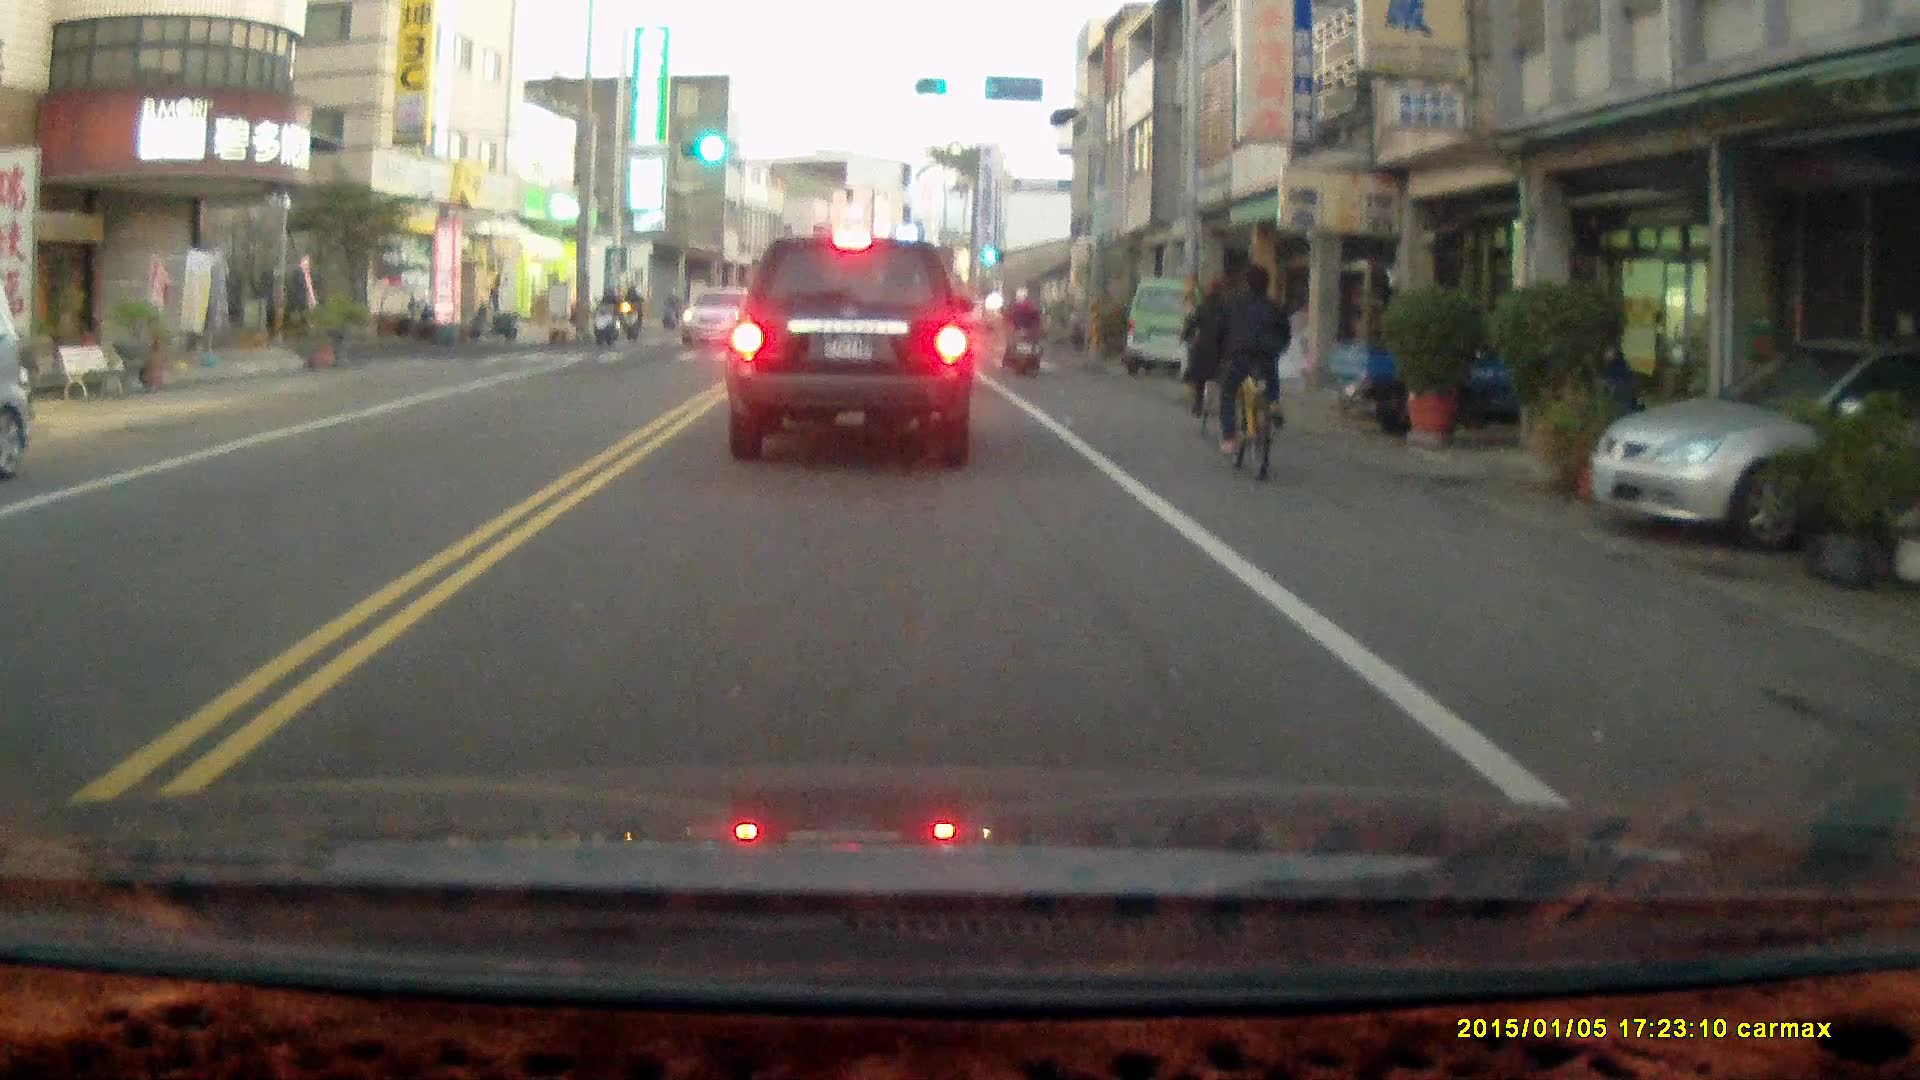pedestrian: (481, 262, 501, 315)
rider: (1208, 262, 1292, 480), (1179, 275, 1243, 444), (994, 283, 1047, 374), (588, 281, 623, 350), (616, 280, 643, 341), (659, 286, 679, 325)
vehicle: (1587, 340, 1920, 560), (729, 234, 977, 469), (1130, 277, 1226, 371), (676, 286, 776, 349)
